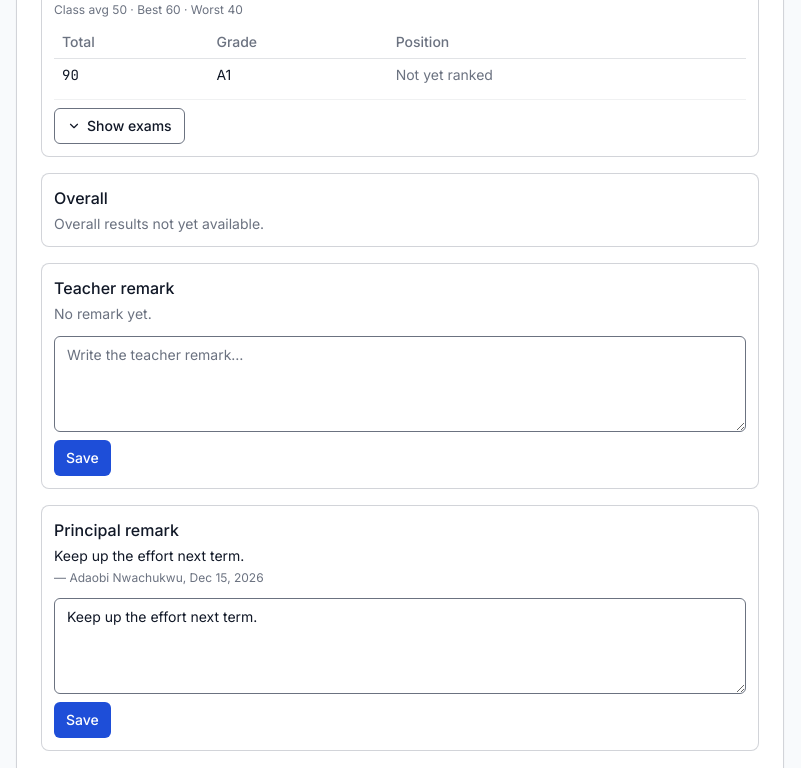
it: ReportCardPage — remark visibility and rendering › saving a remark shows the current user's own name immediately, not a raw id, while the background refetch lands the authoritative copy
(page scrolled)
Type "Great improvement in class participation." into the text box labelled "teacher remark" at (400, 384), box [54,336,746,432]
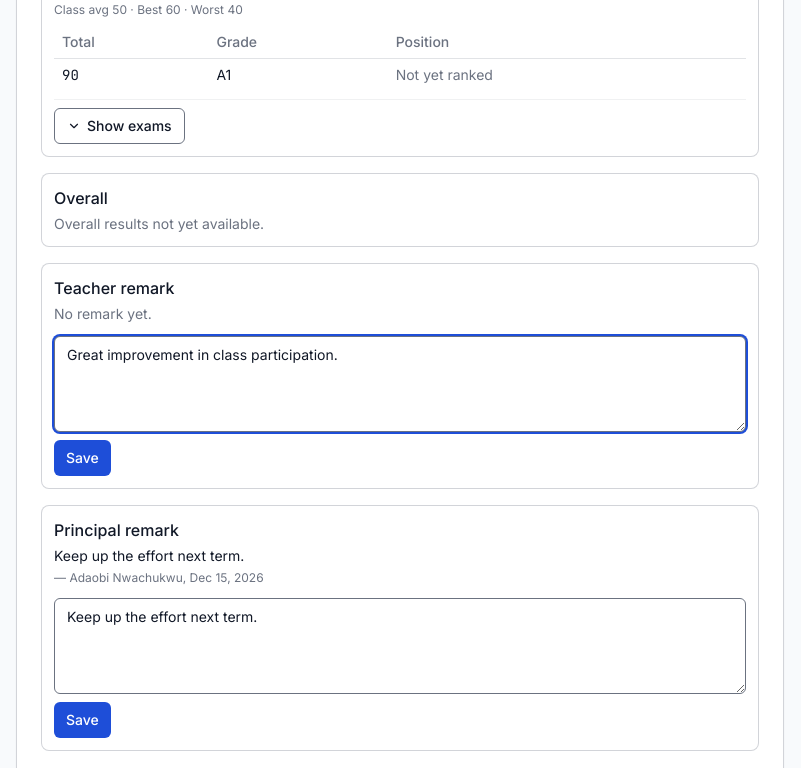
Click the button "Save" below "No remark yet." at (82, 458), box [54,440,111,476]
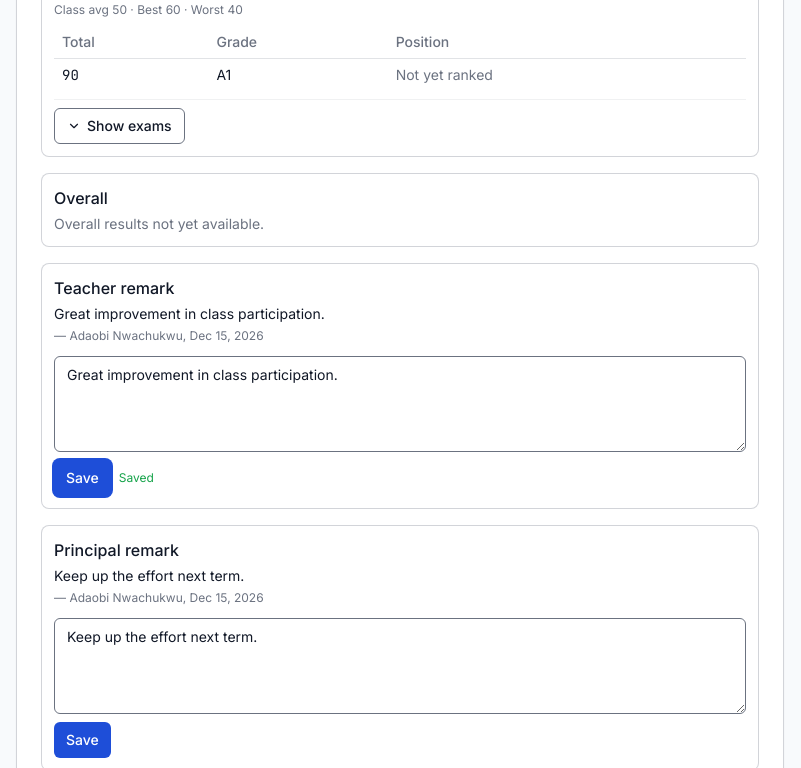
Expected: the text "Great improvement in class participation." is shown, [54,305,325,322]
Expected: the text "— Adaobi Nwachukwu, Dec 15, 2026" is shown 2 times, [54,328,264,343]; [54,590,264,605]
